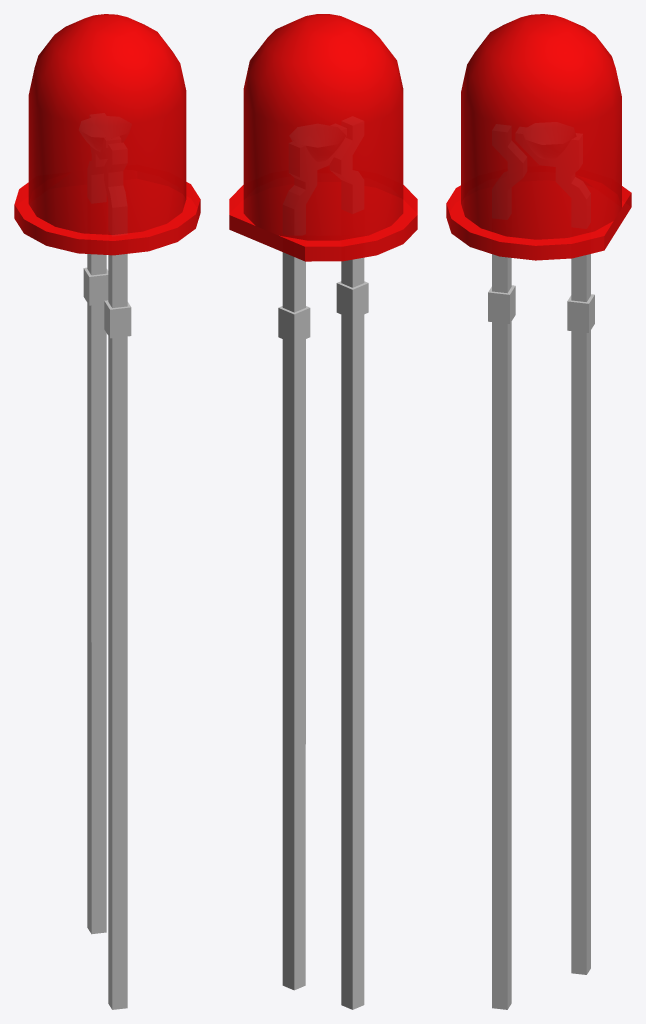
Rendered from LED.obj.
3 views of the same model, side by side, from view 1: azimuth 30°, elevation 25°; view 2: azimuth 150°, elevation 25°; view 3: azimuth 270°, elevation 25° (orthographic). The views are drawn at different scales.
Parts seen in each view (by area): view 1: LED, Legs; view 2: LED, Legs; view 3: LED, Legs.
Part boxes in pixels (left/top/right/bottom): LED: left=14, top=14, right=200, bottom=255; Legs: left=83, top=254, right=131, bottom=1009; LED: left=229, top=14, right=417, bottom=261; Legs: left=278, top=252, right=368, bottom=1009; LED: left=446, top=14, right=631, bottom=260; Legs: left=488, top=254, right=594, bottom=1009.
Bounding box in the file's own units: 0.00589 × 0.0338 × 0.00574.
